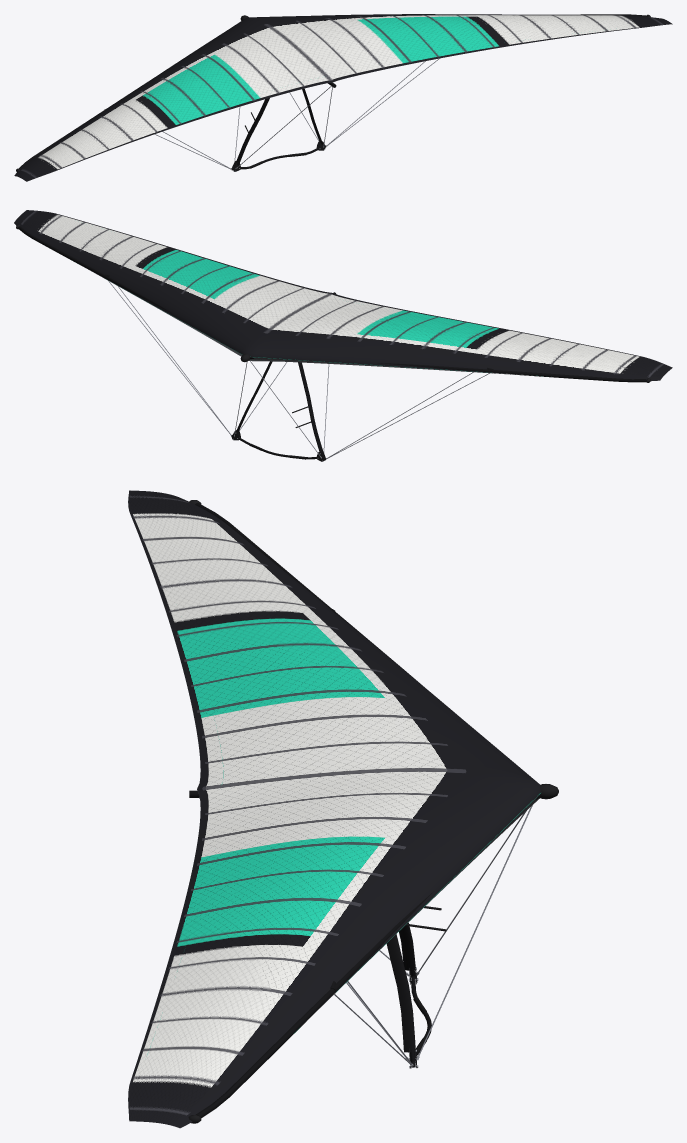
File: glider_air_c4.glb
3 renders of one model, top to bottom at view 1: azimuth 30°, elevation 25°; view 2: azimuth 150°, elevation 25°; view 3: azimuth 270°, elevation 25°, orthographic. The views are drawn at different scales.
Parts seen in each view (by area): view 1: Sail, ControlFrame, Frame; view 2: Sail, ControlFrame, Frame; view 3: Sail, ControlFrame, Frame.
Part boxes in pixels (x1,y1,x2,y2): Sail: [14, 14, 672, 181]; ControlFrame: [155, 58, 439, 171]; Frame: [16, 14, 650, 171]; Sail: [14, 210, 672, 381]; ControlFrame: [108, 281, 489, 461]; Frame: [16, 224, 650, 382]; Sail: [128, 490, 540, 1128]; ControlFrame: [199, 797, 532, 1068]; Frame: [188, 500, 558, 1123].
Bounding box in the file's own units: 10 × 1.94 × 2.89.
Materials: 8 (1 with a texture image).
